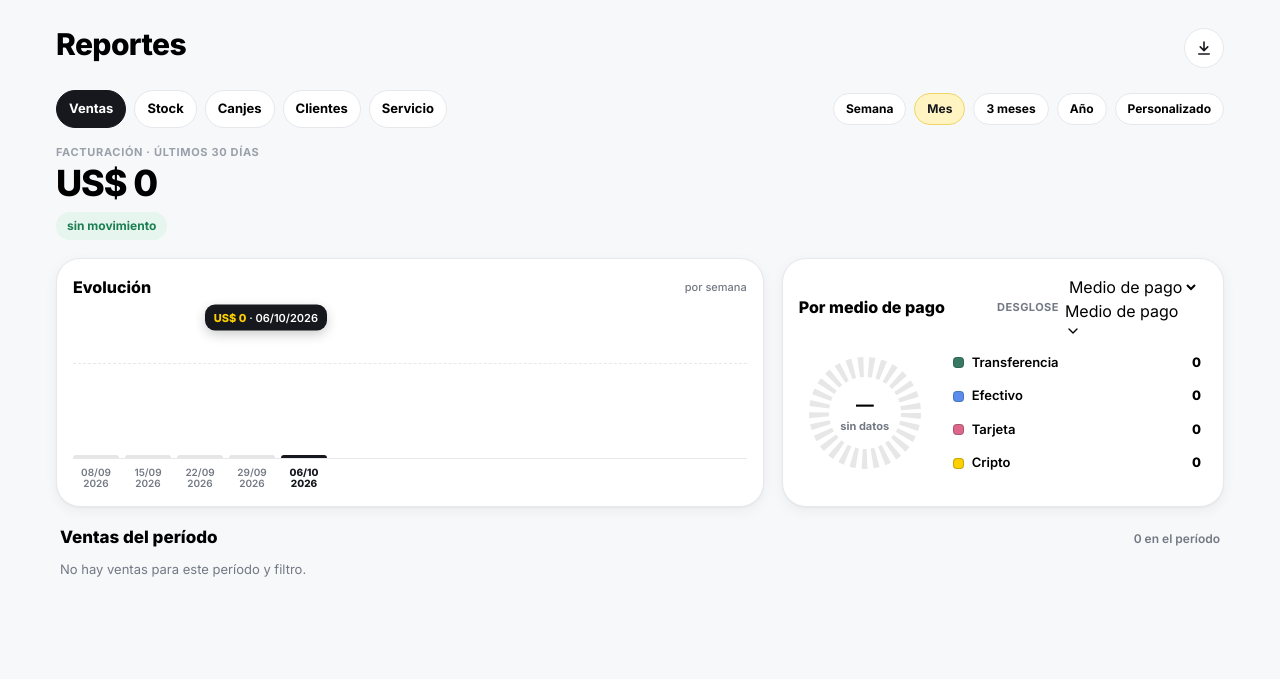
Test: Reports breakdown and new sections › reports repair orders by status, turnaround and billed amount
Click the button "Personalizado".
click(1169, 109)  # box [1114,93,1224,125]
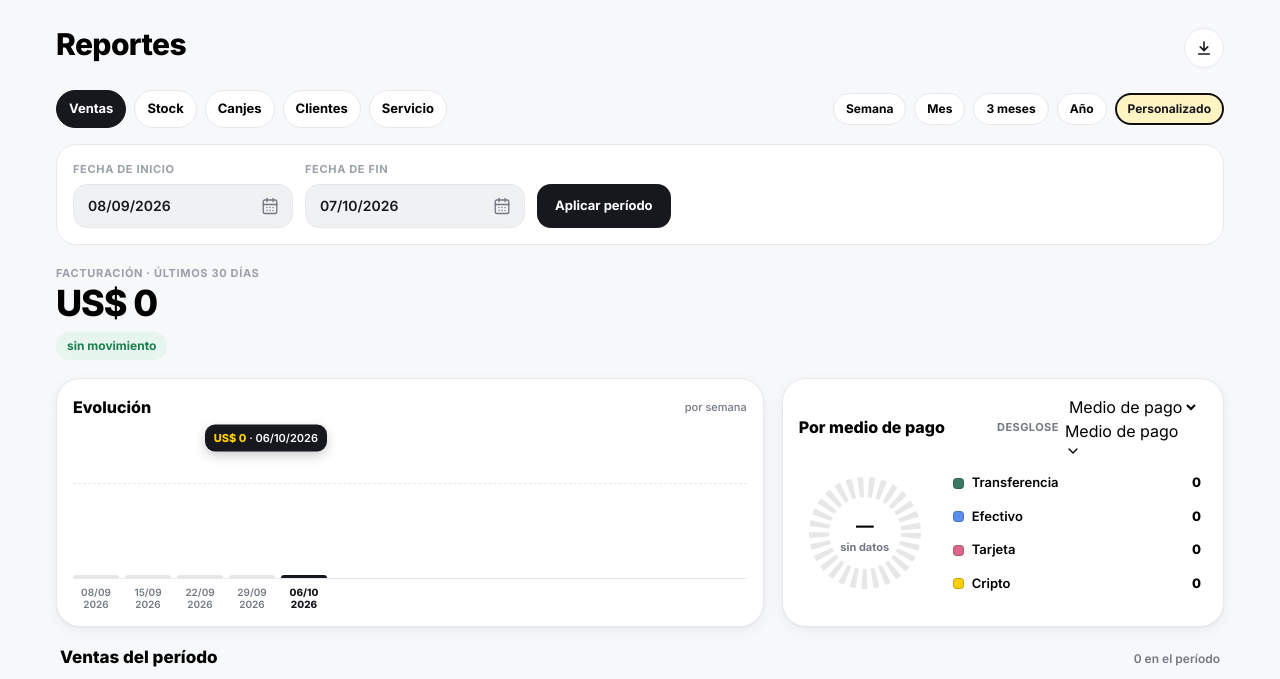
Replace the text in the field labelled "Fecha de inicio" with "2026-04-01" at [183, 206], box [73,184,293,228]
Replace the text in the field labelled "Fecha de fin" with "2026-04-03" at [415, 206], box [305,184,525,228]
Click the button "Aplicar período".
click(604, 206)  # box [537,184,671,228]
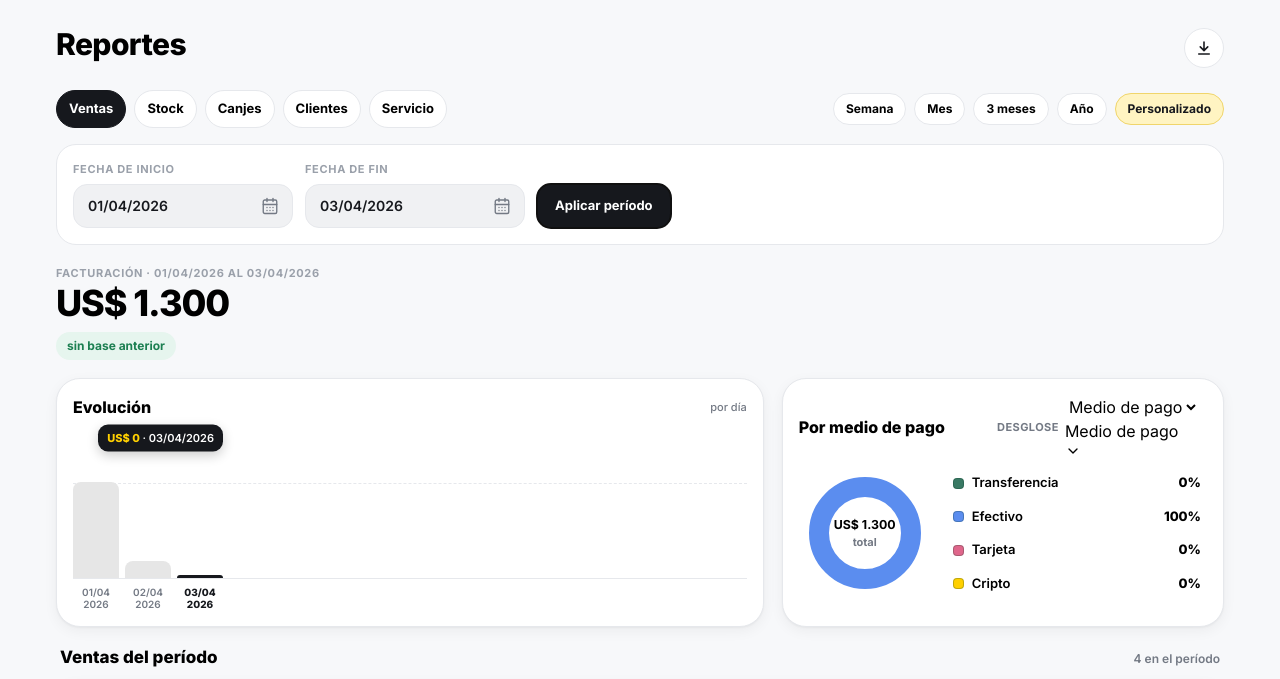
Click the button "Servicio".
click(408, 109)  # box [369,90,447,128]
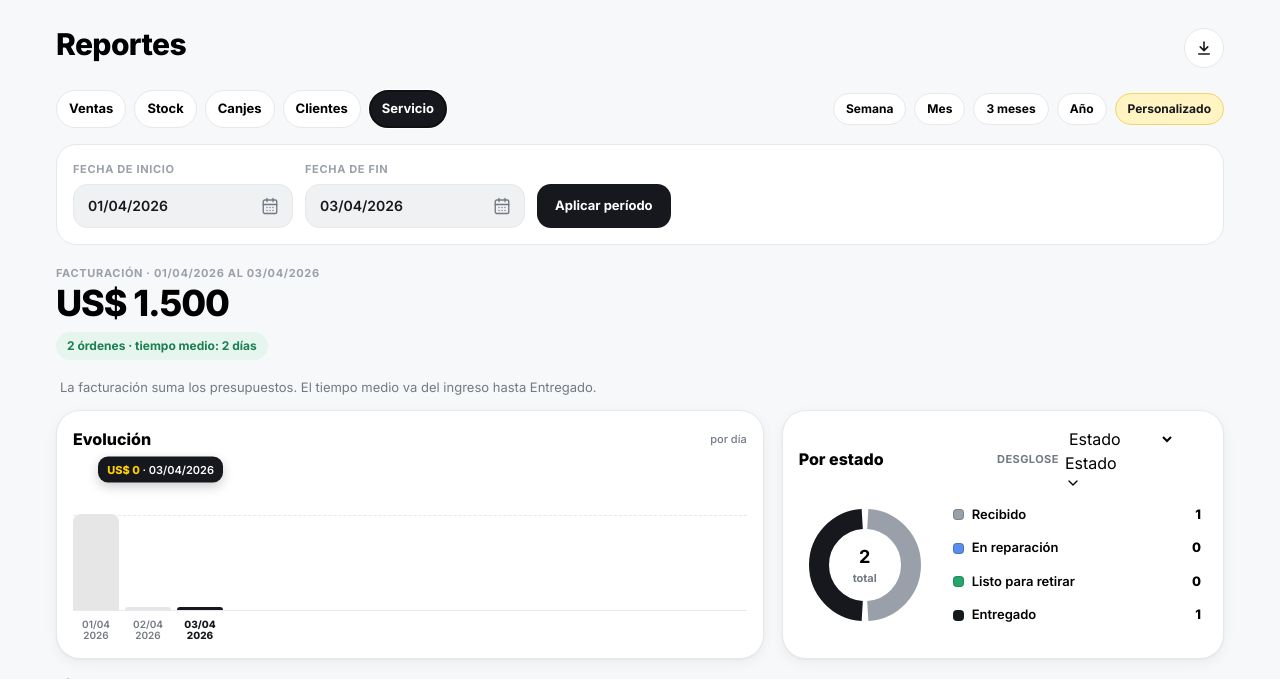
Expected: the text with class "gamount" reads "US$ 1.500", [56,281,229,325]
Expected: the text "2 órdenes · tiempo medio: 2 días" is shown, [56,332,268,360]
Expected: the heading "Por estado" is shown, [799,447,884,471]
Click the dropdown named "Columna de desglose".
click(1091, 471)  # box [1065,451,1117,491]
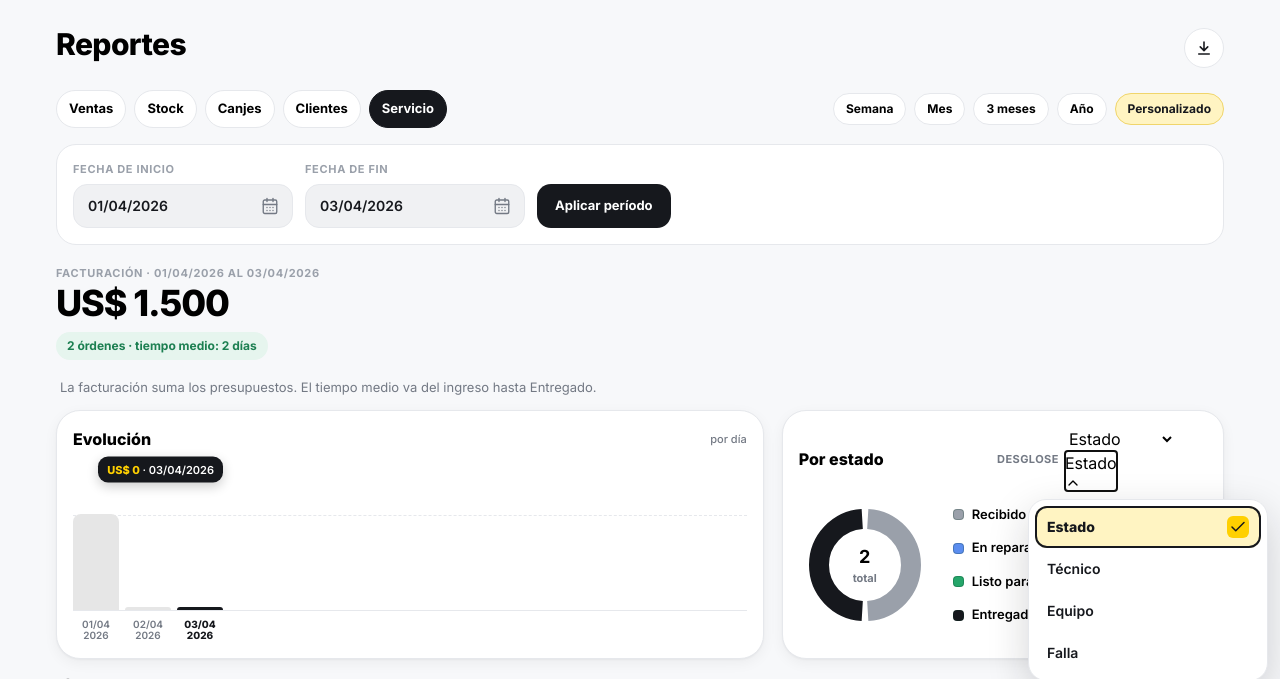
Click the option "Técnico".
click(1074, 569)  # box [1047,560,1100,577]
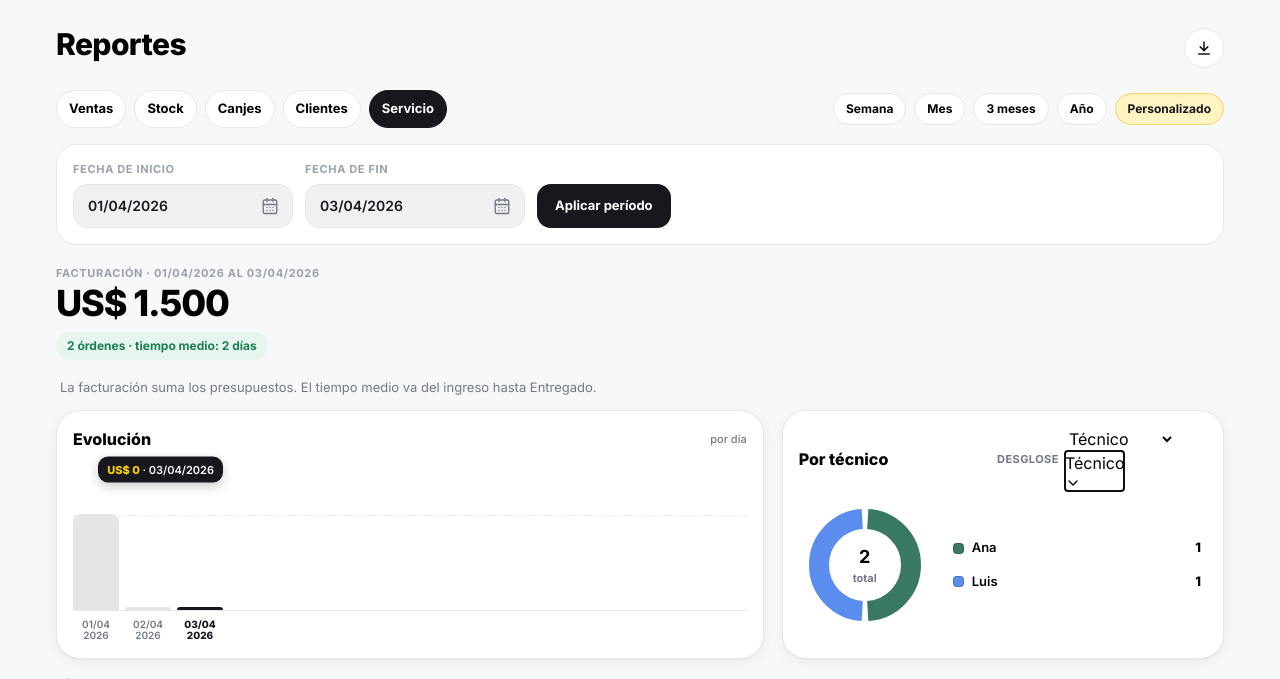
Click the button with aria-label "Ana: 1".
click(958, 548)  # box [947,533,1207,563]
(page scrolled)
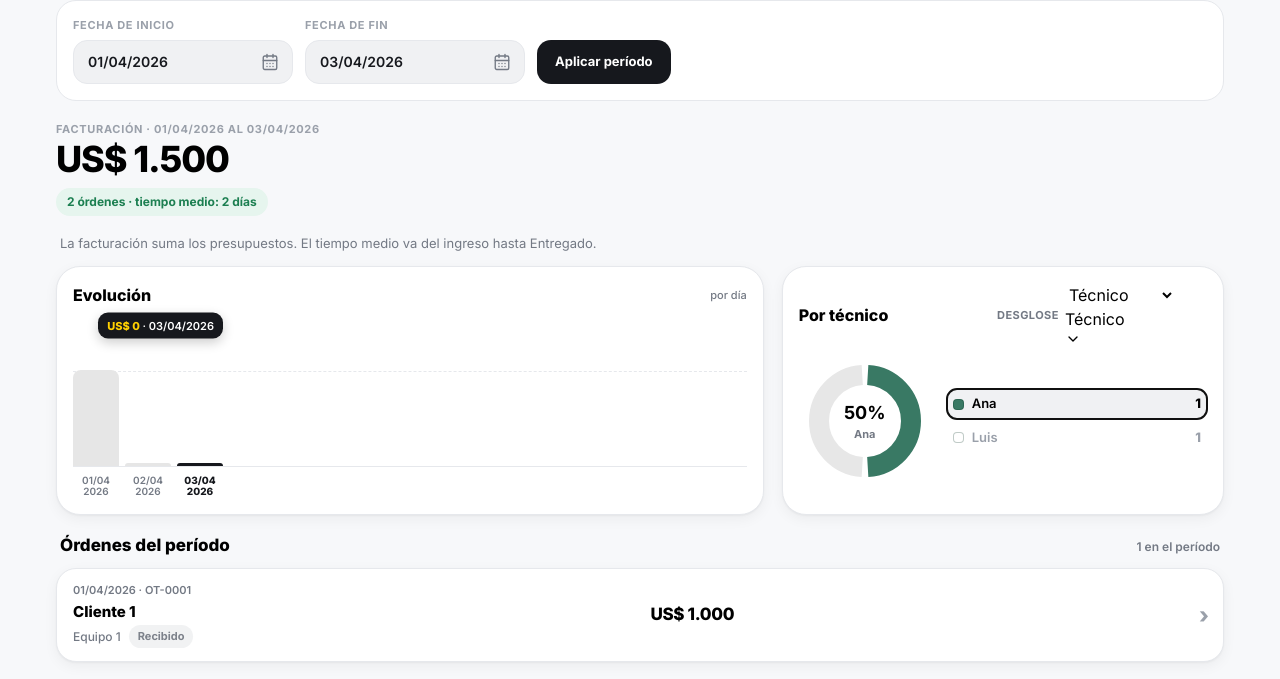
Expected: the text "Cliente 1" is shown, [73,602,136,621]
Expected: the number of buttons with class "gtk" is 1, [56,568,1224,662]
